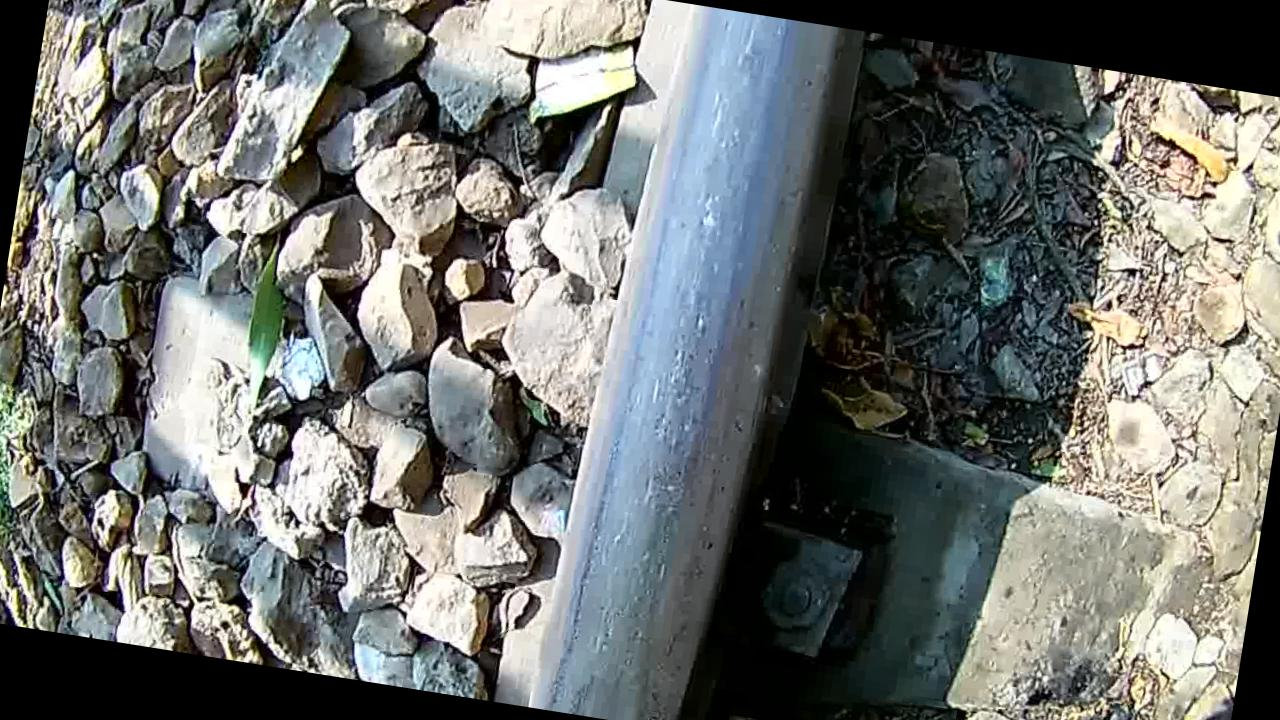bolt_missing: (541, 480, 715, 720)
